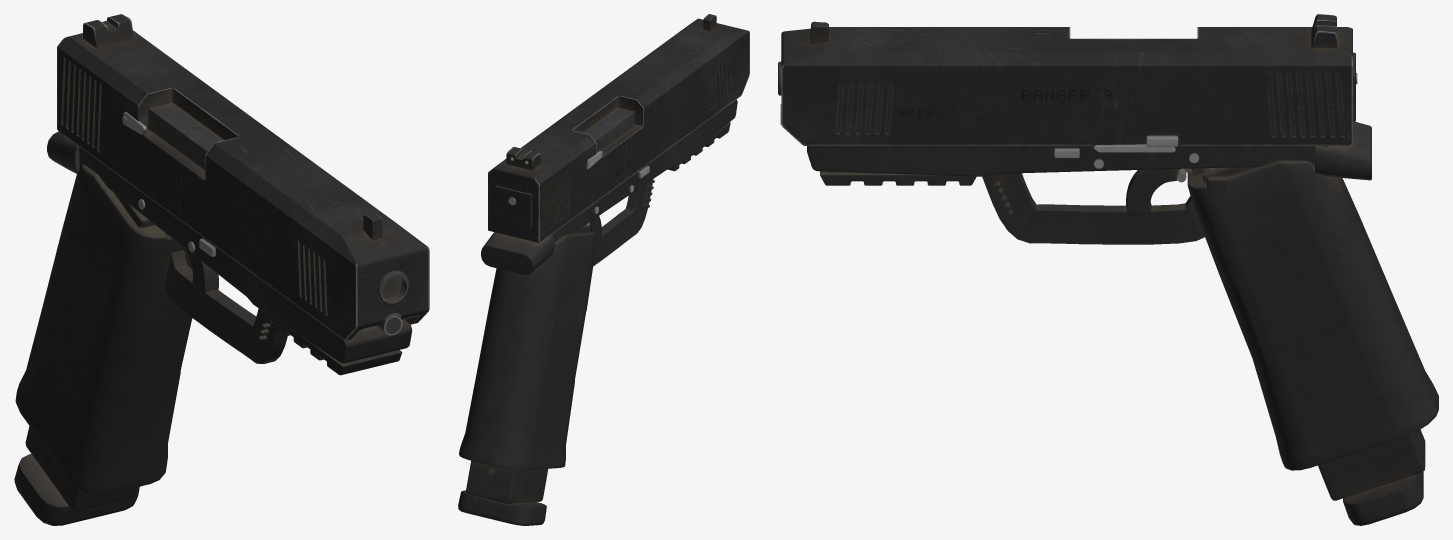
The model's file is pistol.glb.
3 renders of one model, left to right at view 1: azimuth 30°, elevation 25°; view 2: azimuth 150°, elevation 25°; view 3: azimuth 270°, elevation 25°, orthographic. The views are drawn at different scales.
Visible parts, largest first — view 1: mesh_body, mesh_slide, mesh_mag, mesh_trigger; view 2: mesh_body, mesh_slide, mesh_mag; view 3: mesh_body, mesh_slide, mesh_mag, mesh_trigger.
Boxes of the visible parts, <box> form: mesh_body: <box>15,102,412,495</box>; mesh_slide: <box>57,14,429,340</box>; mesh_mag: <box>14,192,154,525</box>; mesh_trigger: <box>165,232,218,297</box>; mesh_body: <box>459,99,737,470</box>; mesh_slide: <box>488,14,749,242</box>; mesh_mag: <box>458,225,590,525</box>; mesh_body: <box>778,61,1438,470</box>; mesh_slide: <box>781,14,1357,145</box>; mesh_mag: <box>1202,167,1425,525</box>; mesh_trigger: <box>1126,168,1192,216</box>.
Size of the model in its own units: 0.0346 by 0.1684 by 0.2081.
Materials: 5 (5 with a texture image).
